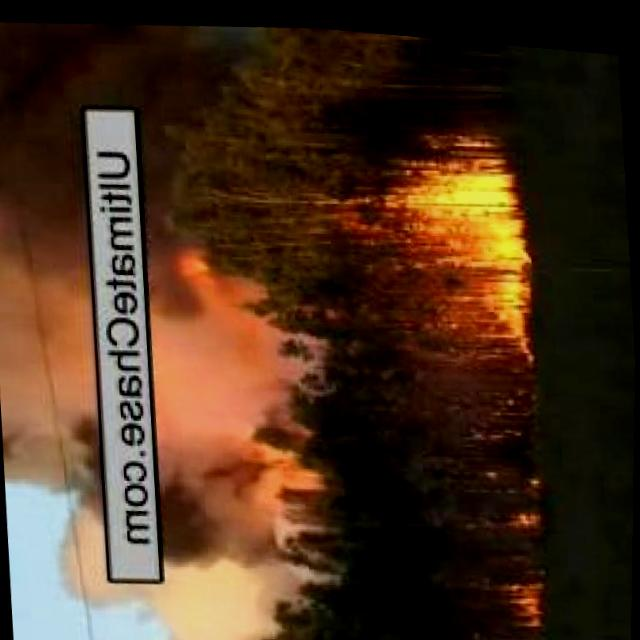helmet: (399, 130, 535, 357), (486, 450, 544, 523), (246, 426, 302, 495), (159, 238, 218, 292), (500, 573, 546, 627)
